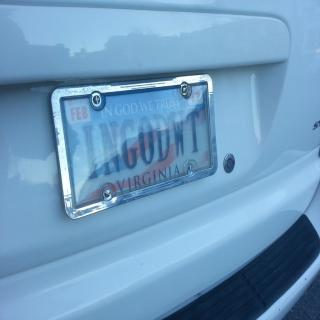license: (61, 74, 226, 216)
